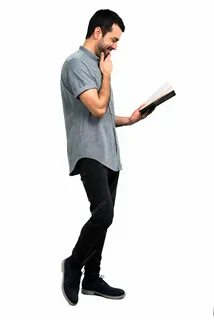awake: (59, 8, 152, 306)
